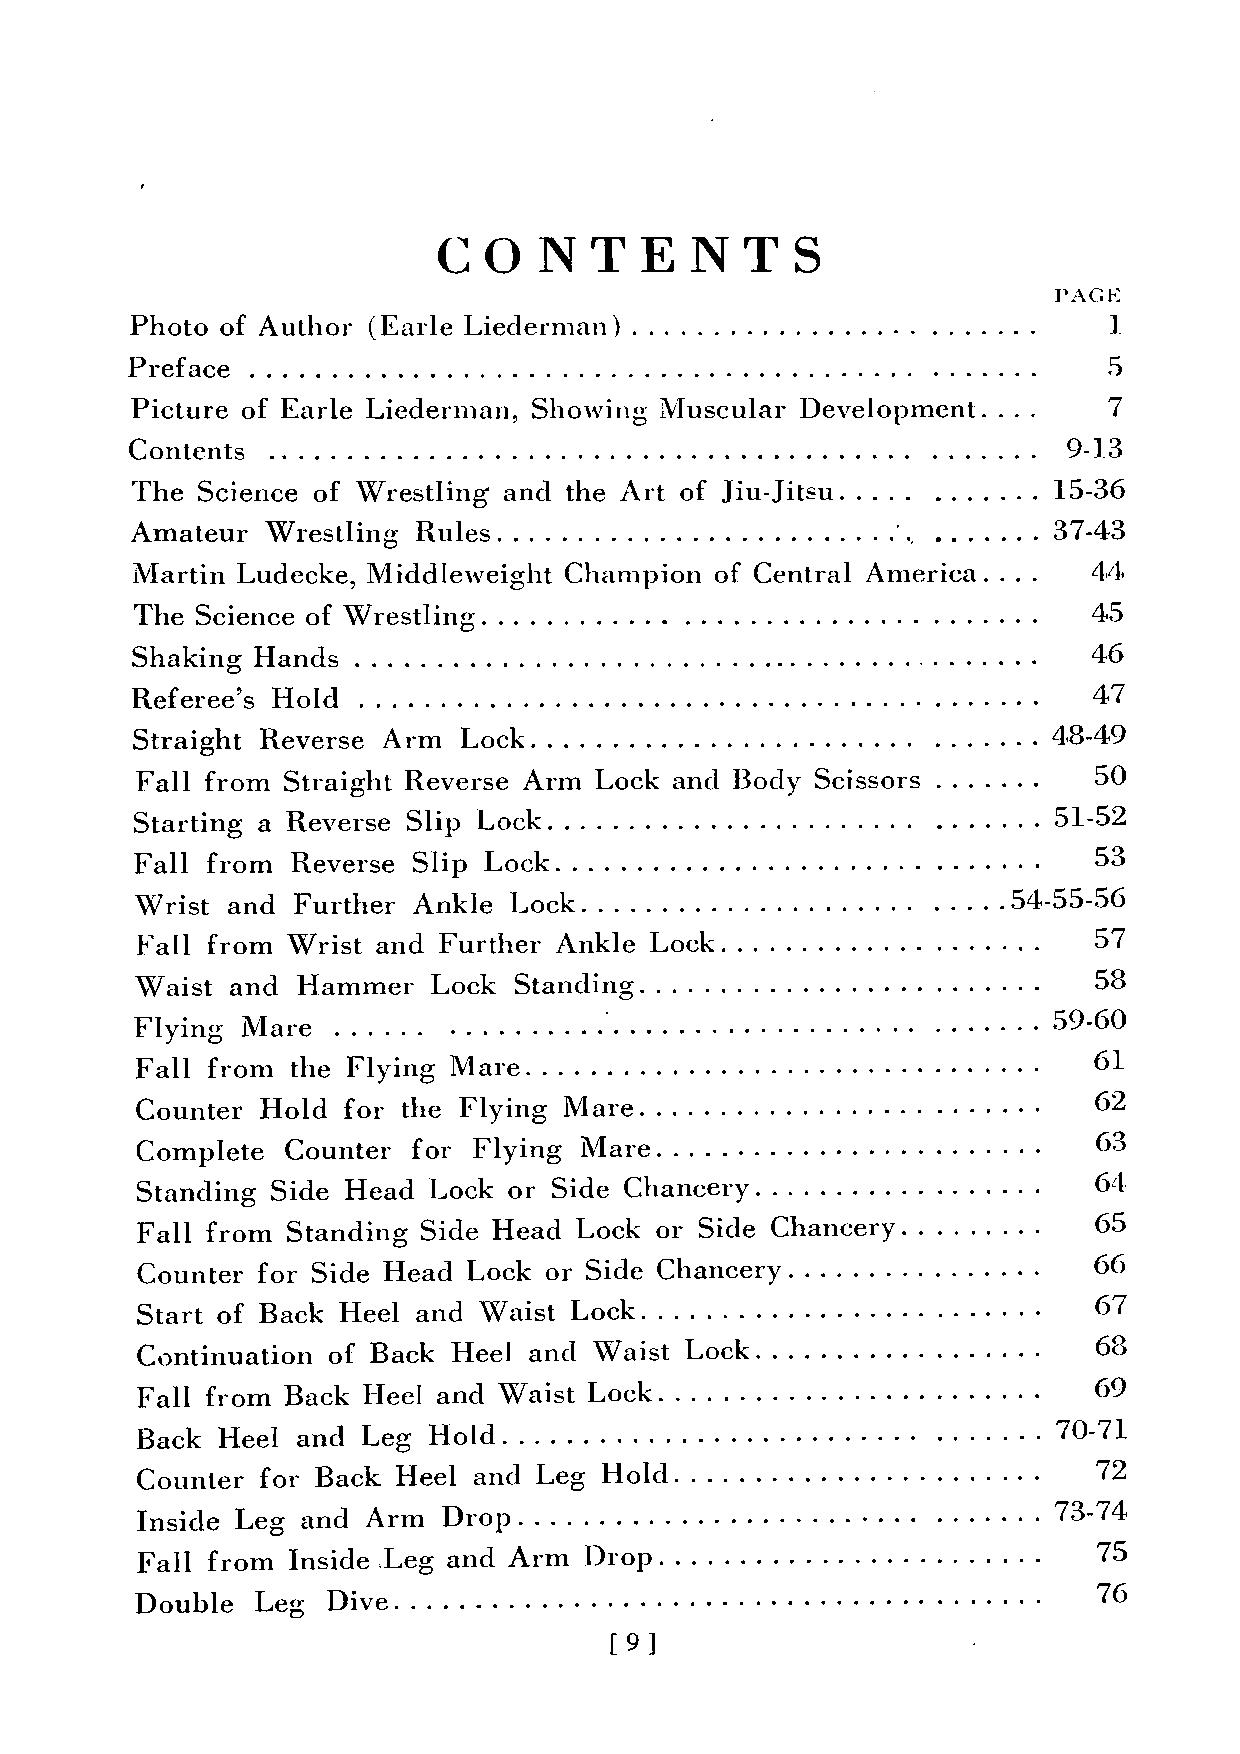TOC_chapter: (130, 557, 977, 592), (130, 395, 976, 427), (136, 1215, 892, 1245), (129, 474, 837, 506), (134, 1173, 752, 1205), (136, 1257, 781, 1286), (132, 768, 925, 790), (136, 1339, 750, 1368), (127, 1461, 670, 1492), (138, 1543, 655, 1576), (132, 969, 633, 1001), (132, 1095, 633, 1127), (133, 1135, 650, 1166), (134, 929, 714, 956), (130, 309, 623, 340), (136, 1296, 637, 1326), (136, 1380, 654, 1408), (132, 1502, 513, 1537), (133, 888, 574, 917), (130, 805, 541, 835), (132, 1053, 519, 1084), (127, 722, 526, 752), (132, 849, 549, 878), (130, 599, 476, 631), (133, 1423, 497, 1451), (130, 515, 491, 544), (132, 1584, 386, 1618), (127, 641, 338, 674), (129, 683, 344, 714), (133, 1012, 315, 1044), (126, 432, 246, 462), (126, 353, 234, 381)
TOC_pagenumber: (1008, 883, 1137, 911), (1047, 515, 1134, 548), (1053, 472, 1135, 502), (1047, 1007, 1135, 1033), (1049, 719, 1133, 747), (1045, 804, 1135, 829), (1055, 1416, 1134, 1444), (1053, 1495, 1127, 1525), (1062, 432, 1131, 460), (1091, 1573, 1130, 1606), (1088, 1291, 1131, 1321), (1088, 1247, 1129, 1278), (1092, 1083, 1129, 1117), (1088, 639, 1130, 666), (1088, 596, 1127, 624), (1092, 1125, 1127, 1155), (1092, 1165, 1129, 1194), (1088, 678, 1130, 703), (1091, 761, 1129, 789), (1091, 1206, 1129, 1235), (1094, 1537, 1131, 1565), (1099, 352, 1133, 382), (1088, 556, 1125, 582), (1091, 1455, 1127, 1482), (1094, 839, 1127, 867), (1090, 1333, 1130, 1355), (1091, 964, 1127, 988), (1087, 1376, 1127, 1397), (1103, 309, 1129, 340), (1091, 1048, 1125, 1071), (1094, 925, 1125, 946), (1104, 392, 1125, 417)
chapter: (436, 234, 824, 275)
